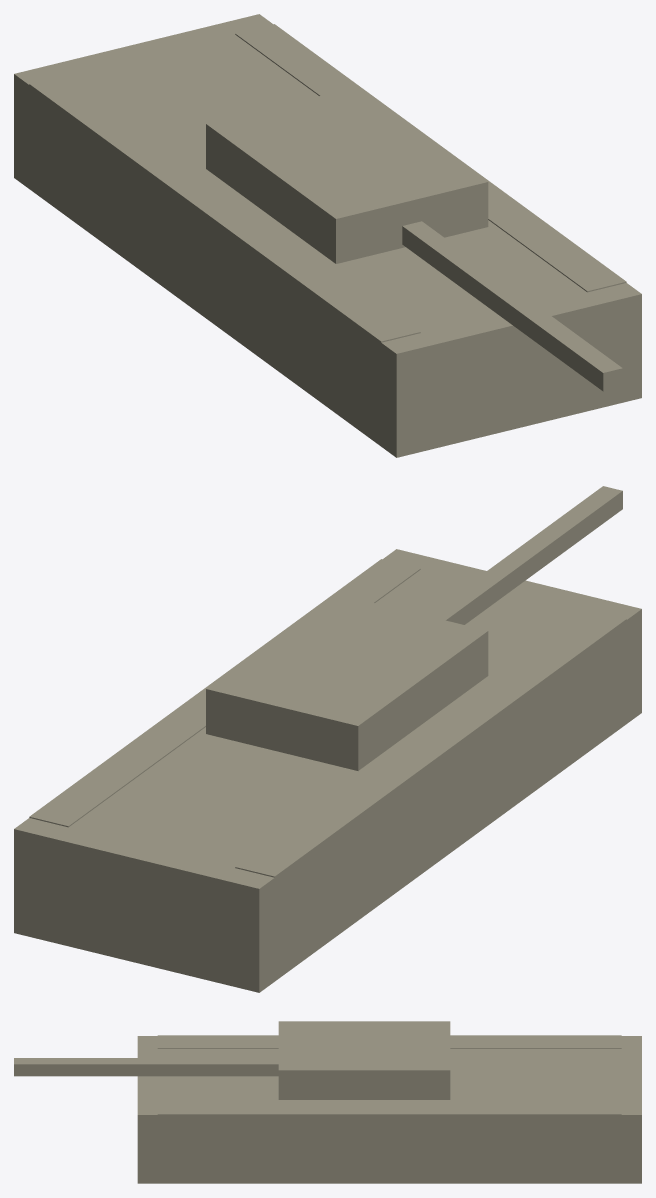
3 renders of one model, top to bottom at view 1: azimuth 30°, elevation 25°; view 2: azimuth 150°, elevation 25°; view 3: azimuth 270°, elevation 25°, orthographic. The views are drawn at different scales.
Visible parts, largest first — view 1: Hull, Turret, Track_L, Track_R, Gun; view 2: Hull, Turret, Track_L, Track_R, Gun; view 3: Hull, Track_R, Turret, Gun, Track_L.
Part boxes in pixels (x1=…): Hull: x1=14, y1=14, x2=641, y2=457; Turret: x1=206, y1=87, x2=488, y2=263; Track_L: x1=29, y1=74, x2=420, y2=391; Track_R: x1=235, y1=24, x2=626, y2=292; Gun: x1=402, y1=221, x2=622, y2=391; Hull: x1=14, y1=549, x2=641, y2=992; Turret: x1=206, y1=594, x2=488, y2=770; Track_L: x1=235, y1=609, x2=626, y2=926; Track_R: x1=29, y1=559, x2=420, y2=827; Gun: x1=426, y1=486, x2=622, y2=624; Hull: x1=137, y1=1036, x2=641, y2=1183; Track_R: x1=157, y1=1101, x2=621, y2=1147; Turret: x1=278, y1=1021, x2=450, y2=1099; Gun: x1=14, y1=1058, x2=278, y2=1076; Track_L: x1=157, y1=1035, x2=621, y2=1048.
Bounding box in the file's own units: 3 × 1.74 × 10.08.
